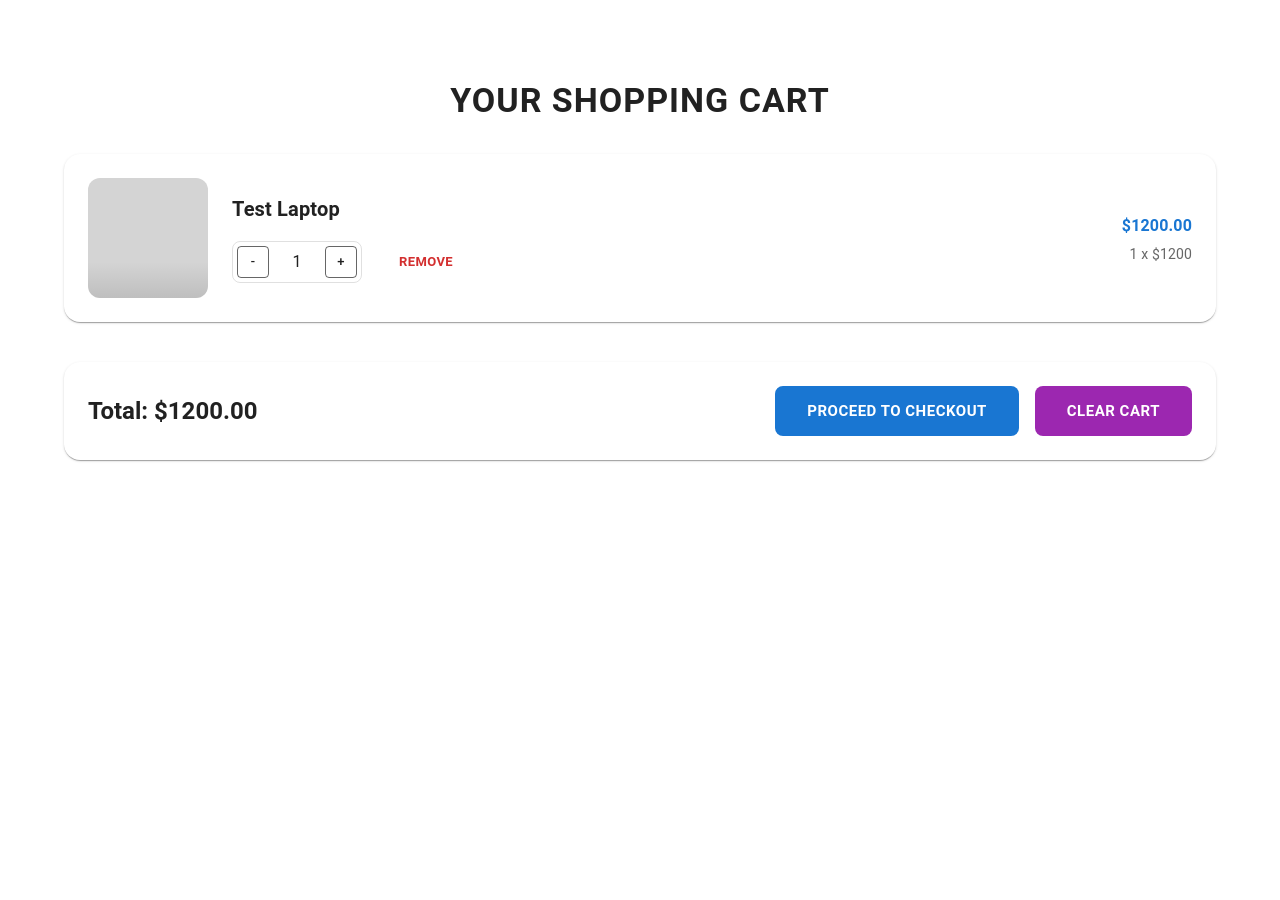
CartPage › removes a line
This screenshot has width=1280, height=900.
Expected: the heading "Test Laptop" is shown, [232,197,340,221]
Click the button "Remove": coordinates (426, 262) [394,247,458,277]
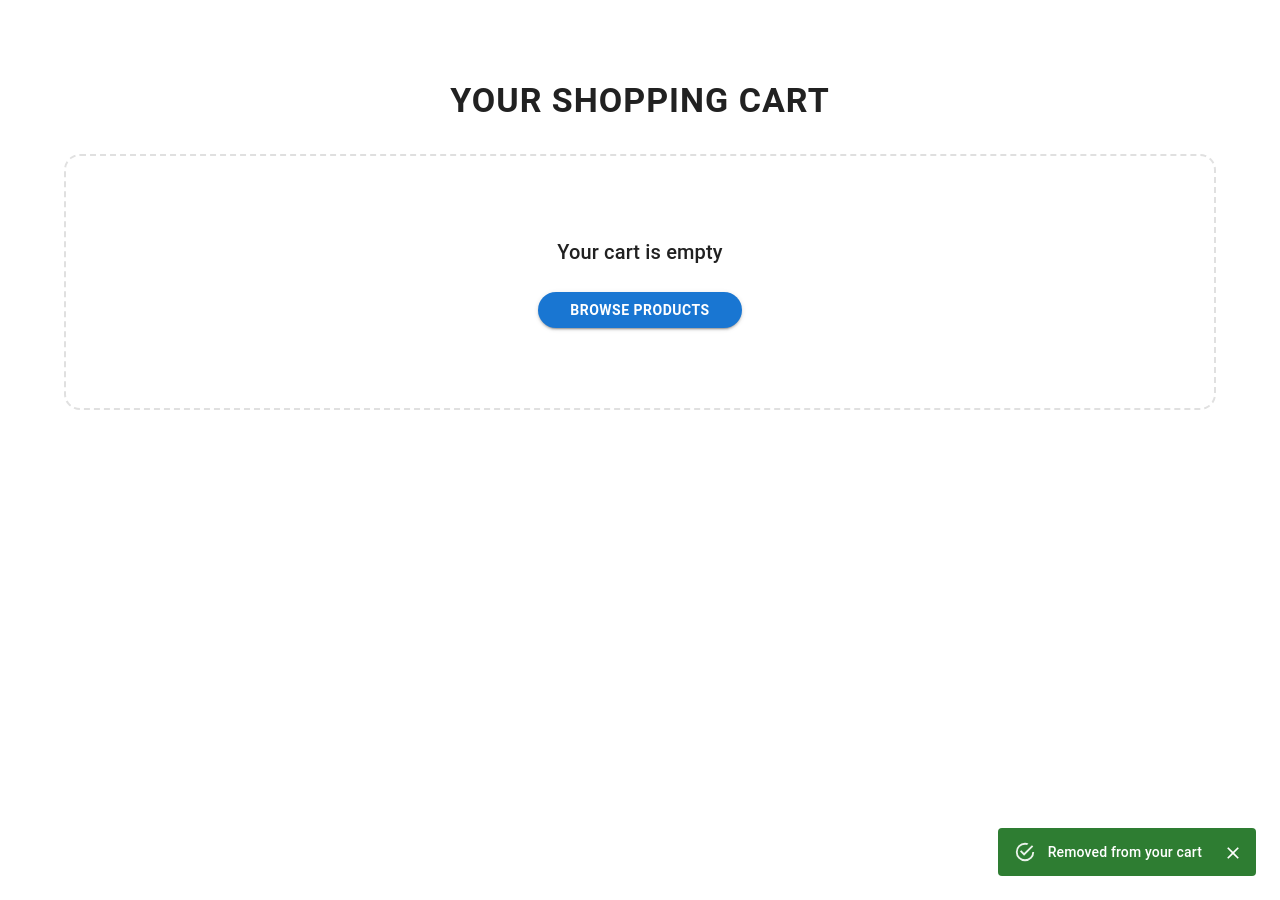
Result: the heading "Your cart is empty" is shown at [557,240,723,264]
